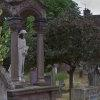Statue: (4, 3, 44, 86)
